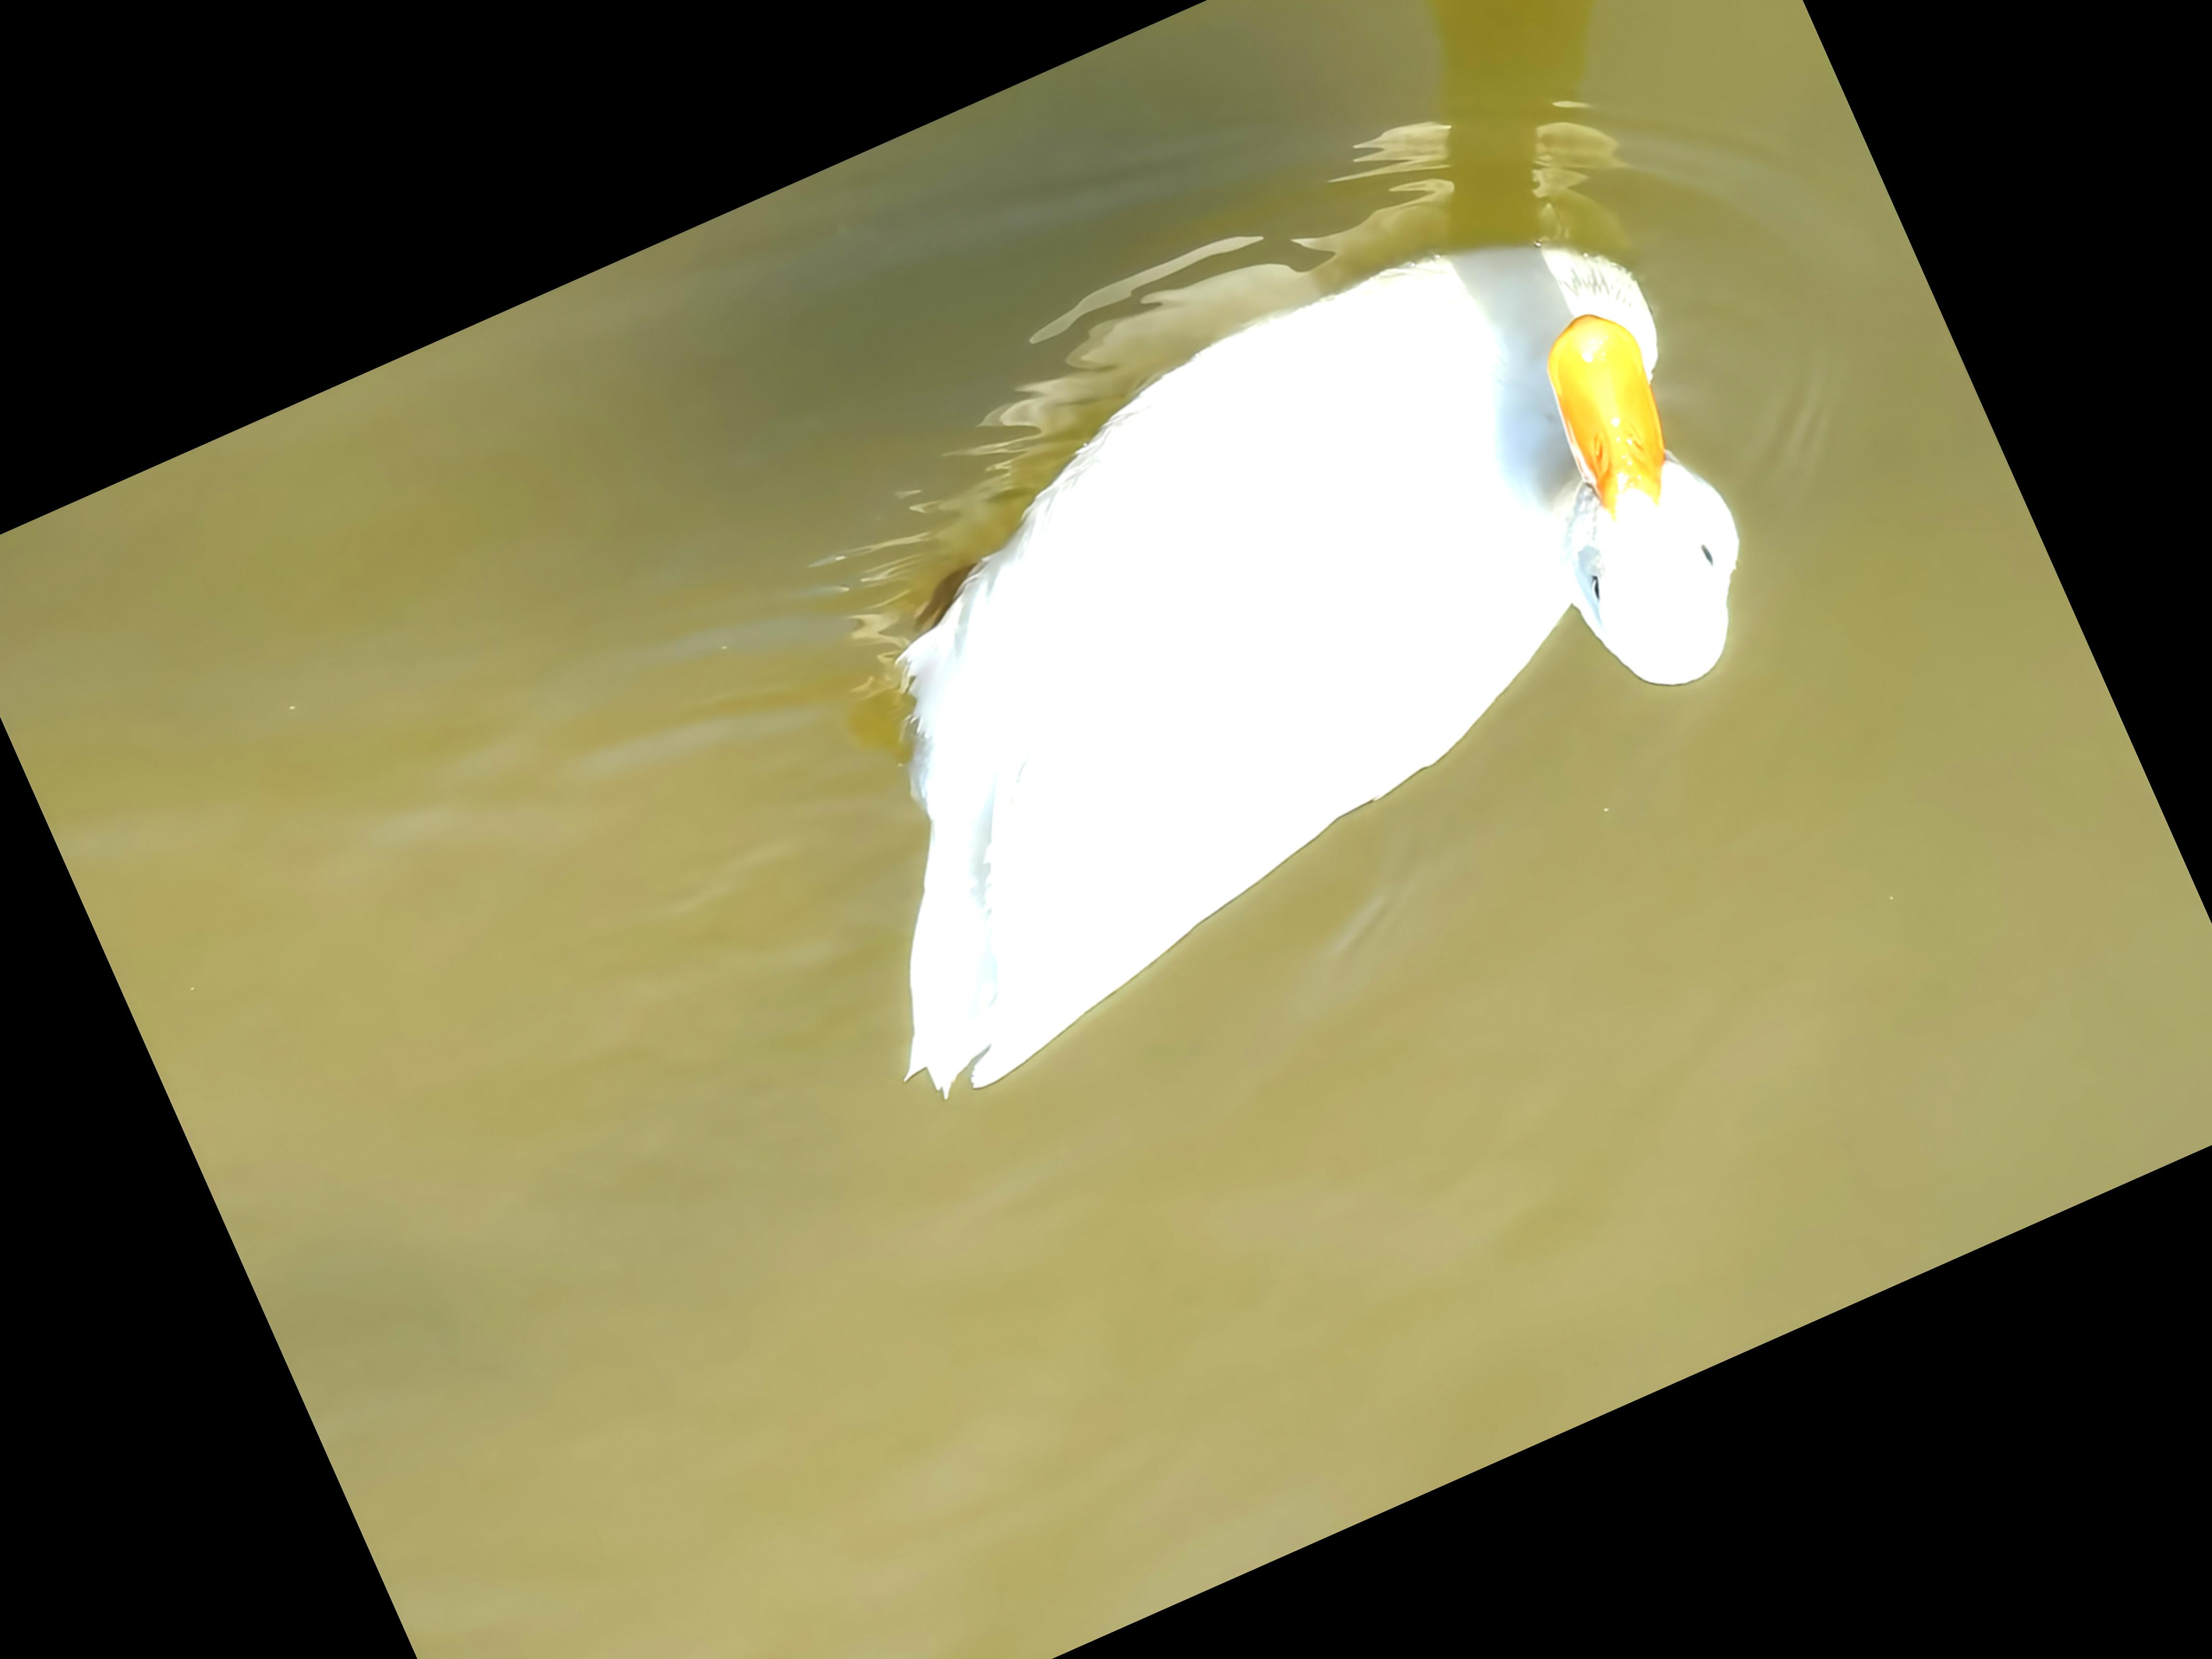duck: (646, 91, 1895, 1129)
